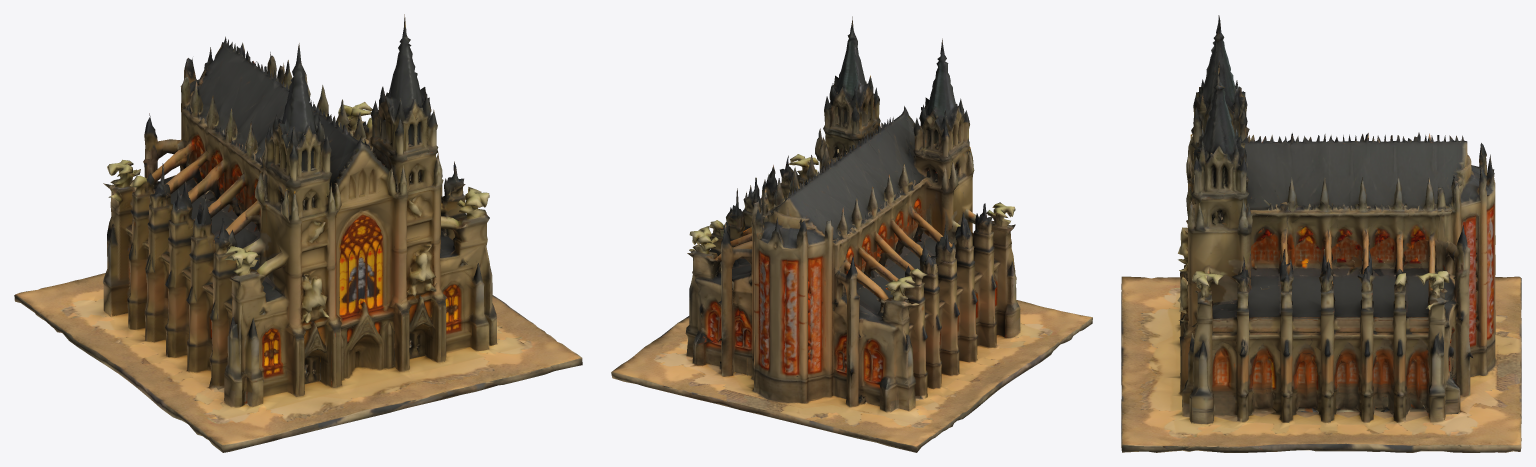
The model's file is desert_cathedral_texture.fbx.
The picture shows the model from 3 angles, left to right: view 1: azimuth 30°, elevation 25°; view 2: azimuth 150°, elevation 25°; view 3: azimuth 270°, elevation 25°; orthographic projection. The views are drawn at different scales.
Visible parts, largest first — view 1: Mesh_0; view 2: Mesh_0; view 3: Mesh_0.
Part boxes in pixels (bbox=[...]): Mesh_0: bbox=[14, 14, 582, 452]; Mesh_0: bbox=[611, 16, 1092, 452]; Mesh_0: bbox=[1121, 15, 1521, 452].
Bounding box in the file's own units: 191 × 175 × 191.
1 material, 1 textured.
